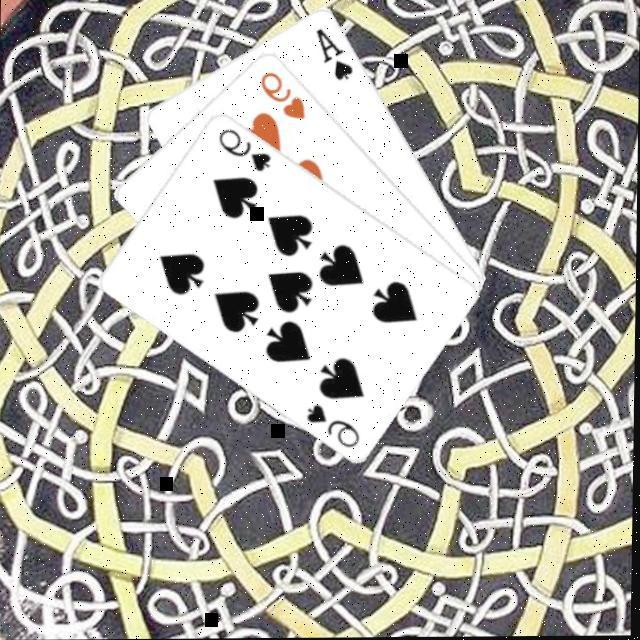9H: (255, 67, 308, 121)
9S: (302, 398, 363, 450), (213, 123, 274, 173)
AS: (311, 23, 356, 82)
